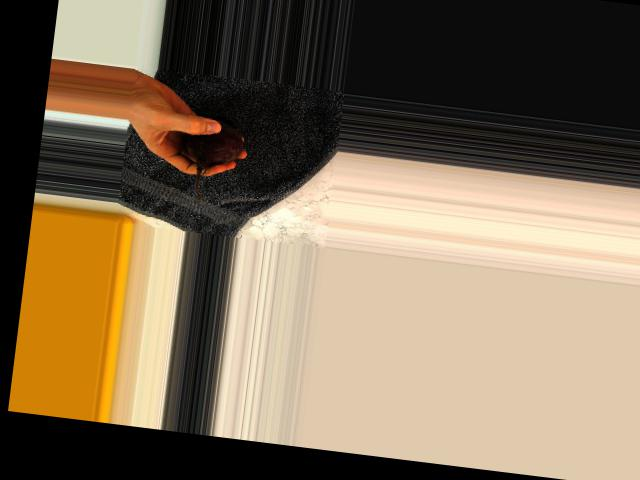beet: (178, 112, 247, 206)
